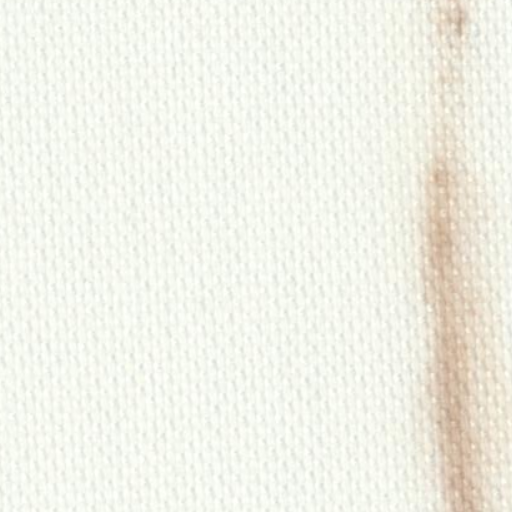WuZi: (400, 7, 508, 506)
